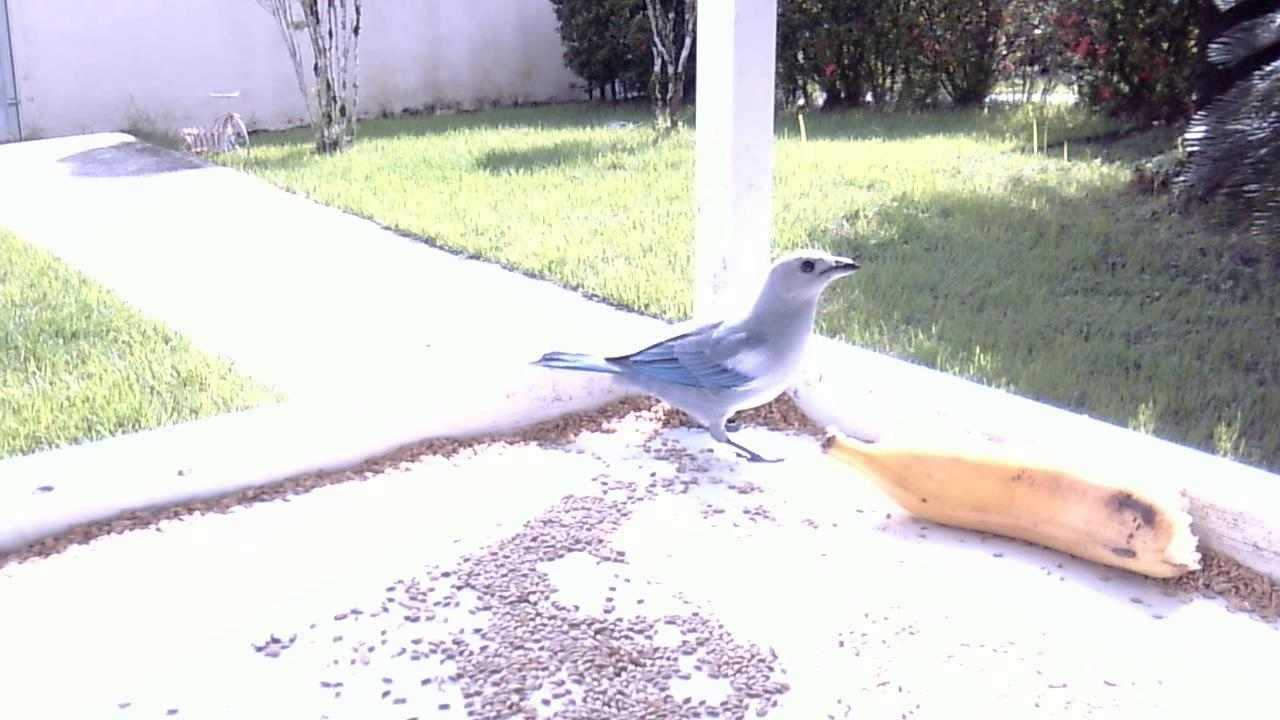sanhaco_da_amazonia: (526, 253, 878, 469)
